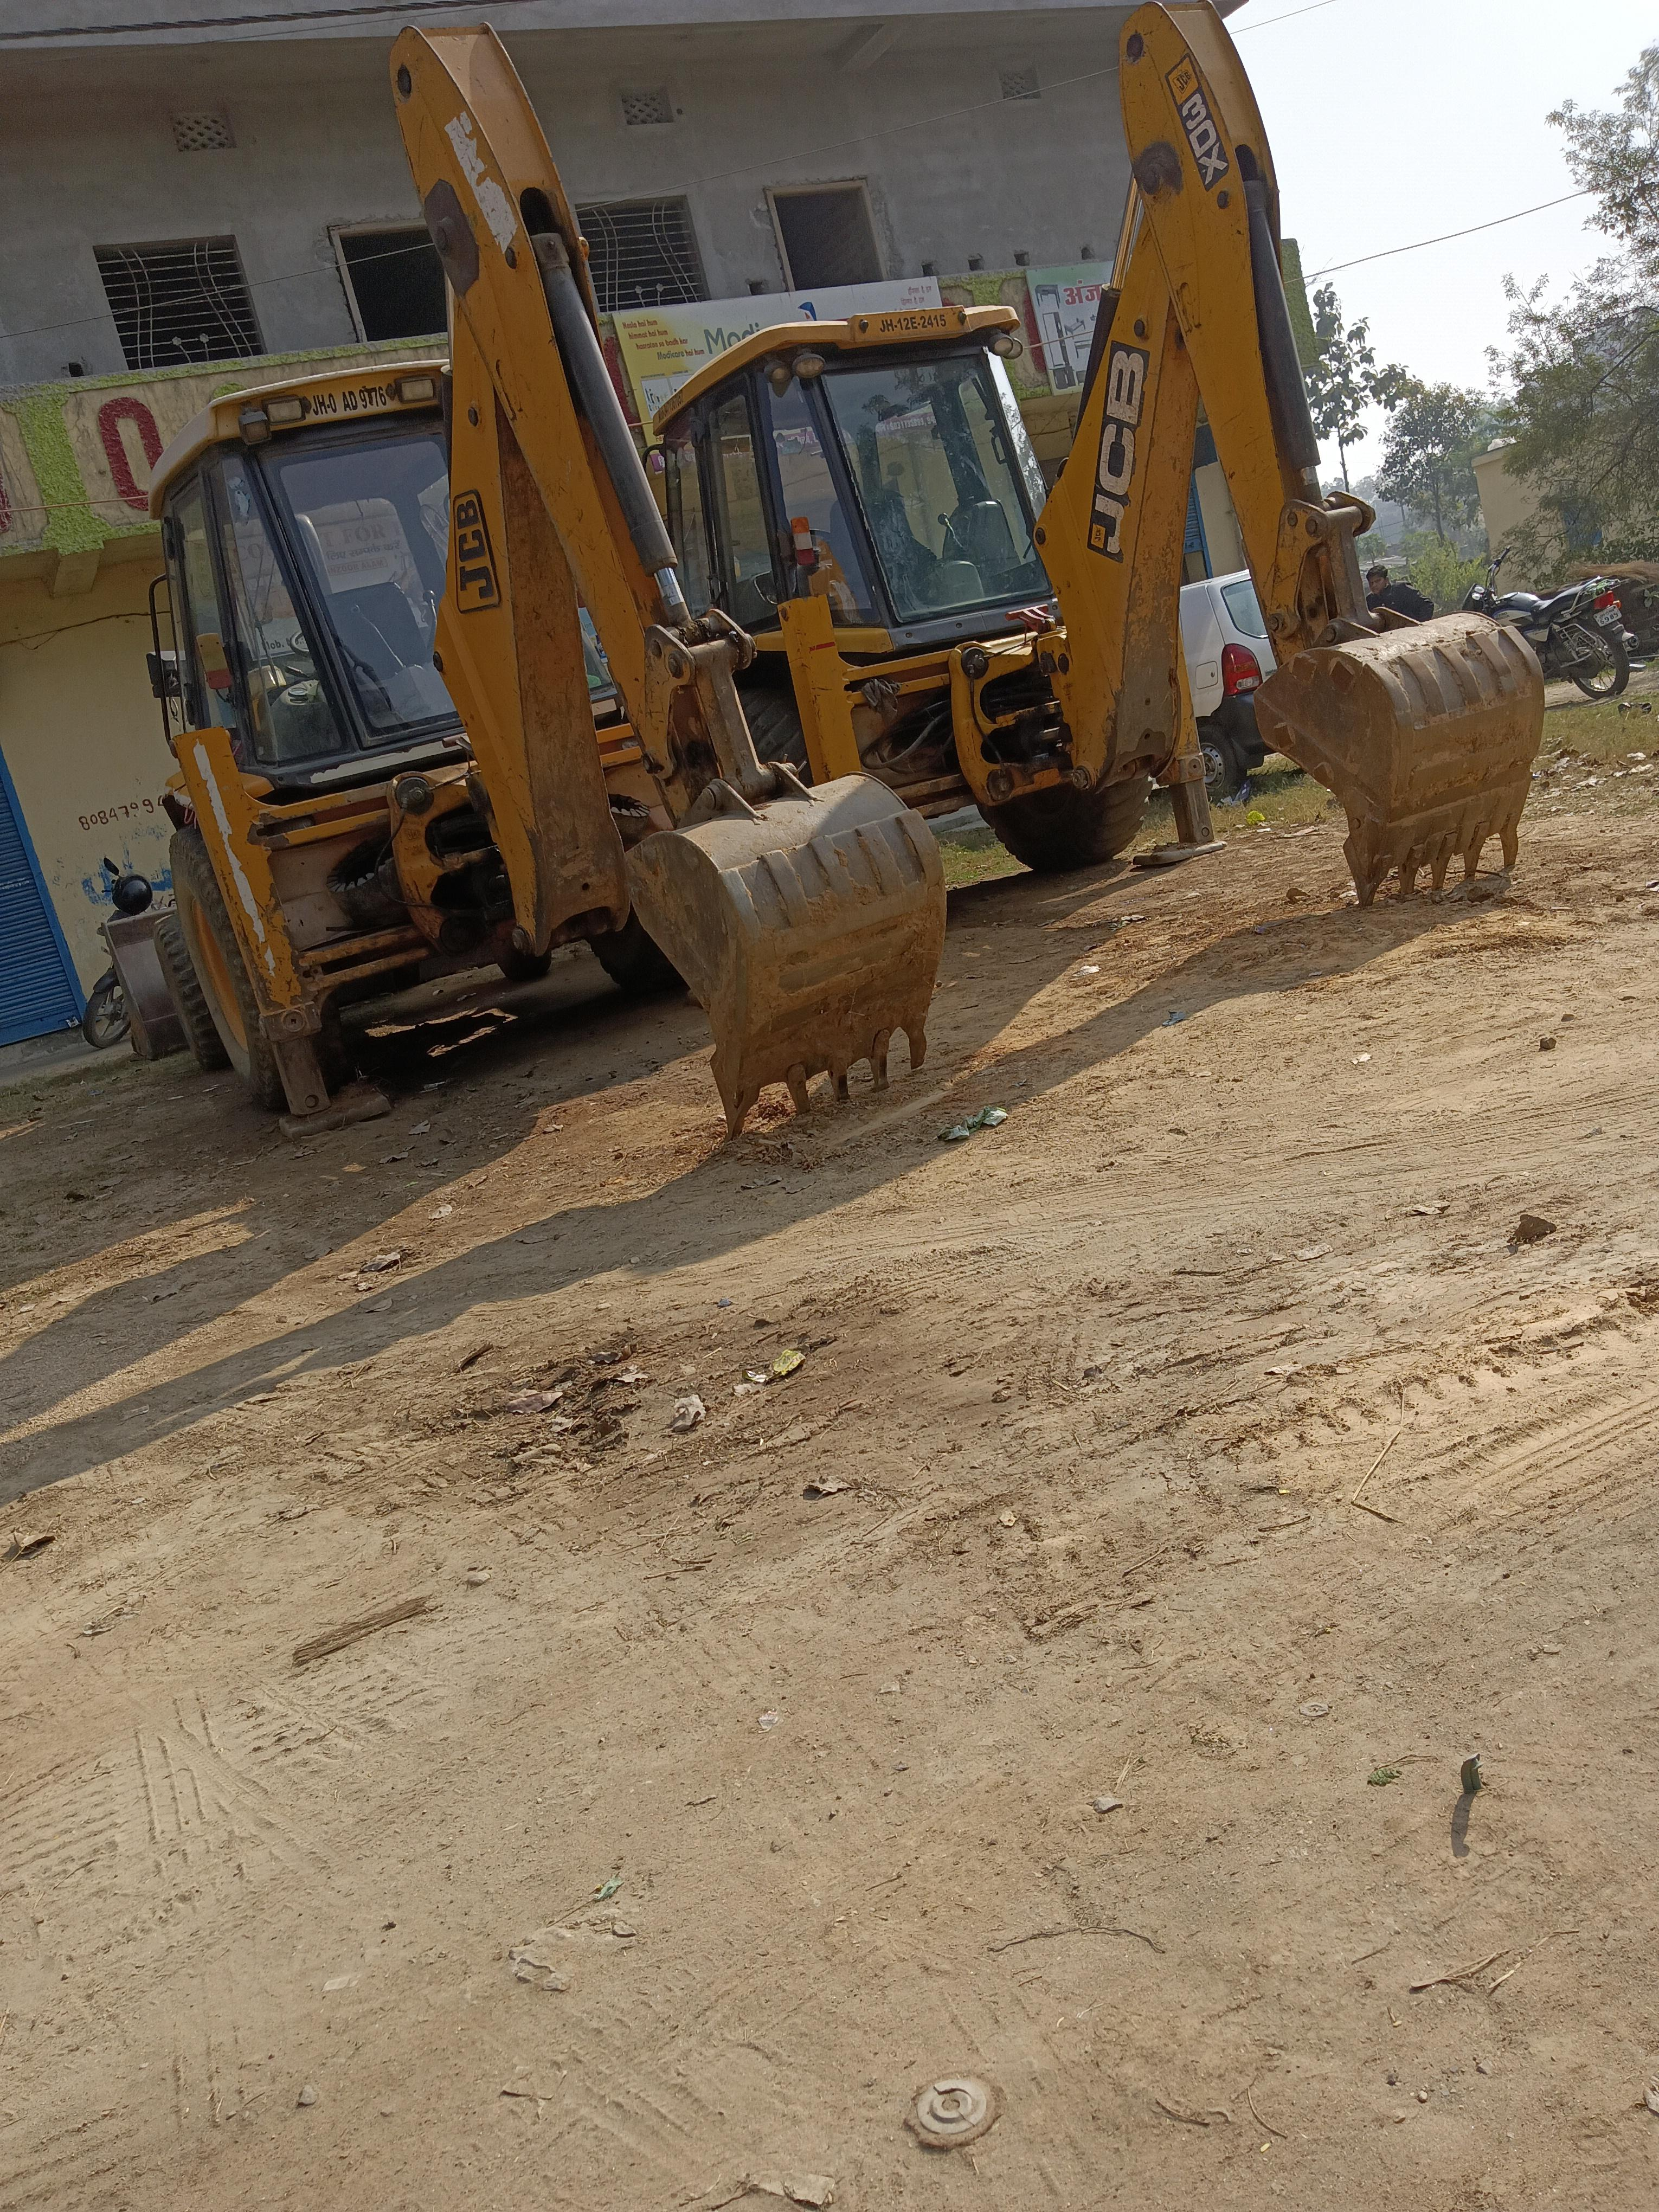excavator: (136, 30, 915, 1090), (674, 17, 1532, 786)
